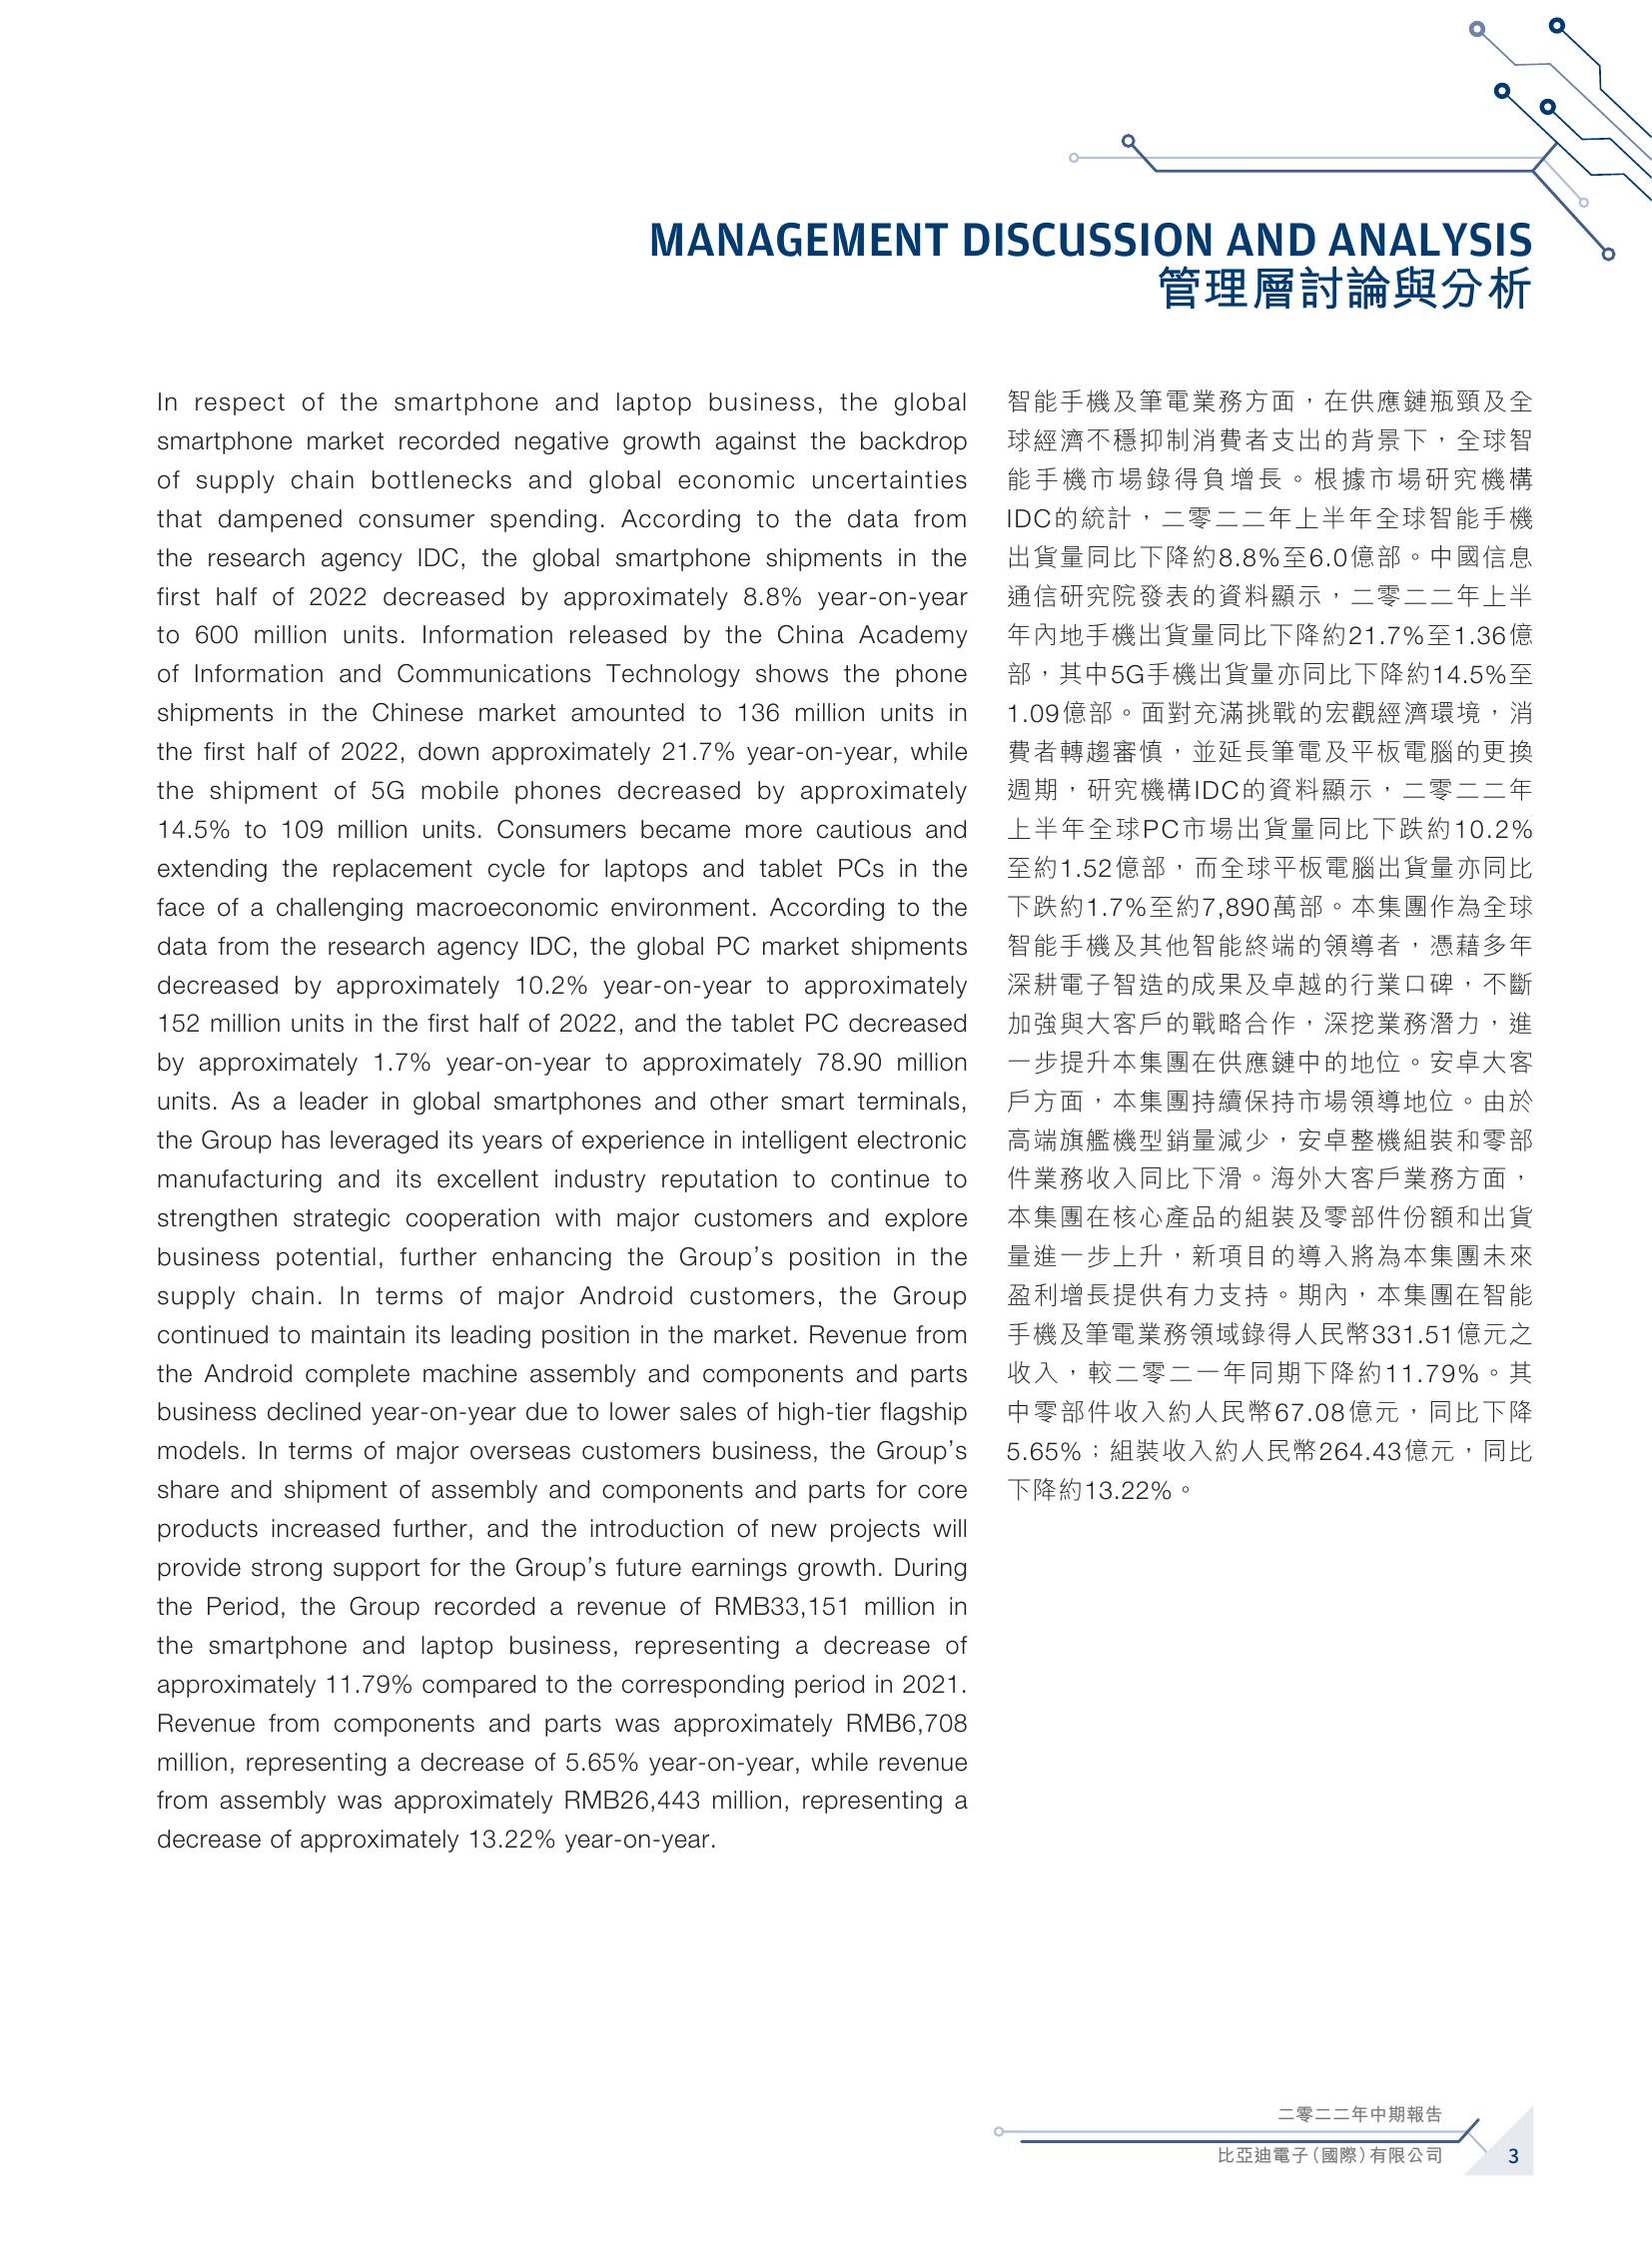Footer: (0, 2068, 1652, 2242)
Header: (0, 0, 1652, 197)
